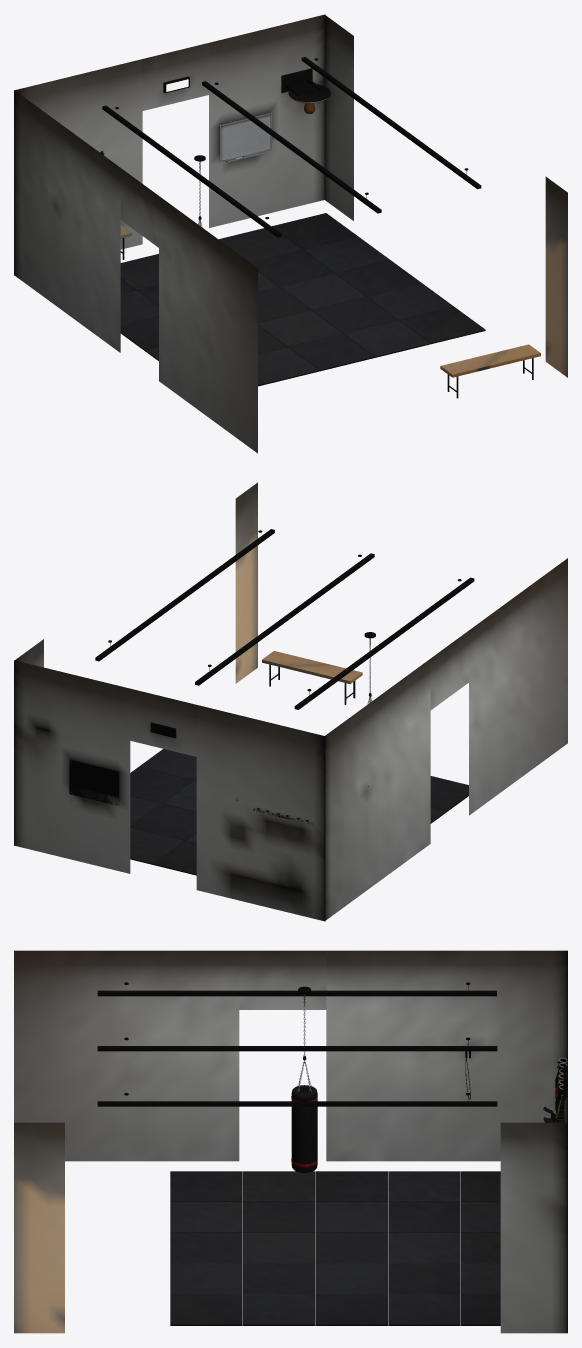
The model's file is gym.glb.
3 views of the same model, one above another, from view 1: azimuth 30°, elevation 25°; view 2: azimuth 150°, elevation 25°; view 3: azimuth 270°, elevation 25° (orthographic). The views are drawn at different scales.
Parts seen in each view (by area): view 1: gym__ground__vtx; view 2: gym__ground__vtx; view 3: gym__ground__vtx.
Boxes of the visible parts, x1,y1,x2,y2 form: gym__ground__vtx: (14,14,567,453); gym__ground__vtx: (14,482,567,921); gym__ground__vtx: (14,950,567,1333).
Size of the model in its own units: 5.63 by 3.2 by 7.63.
